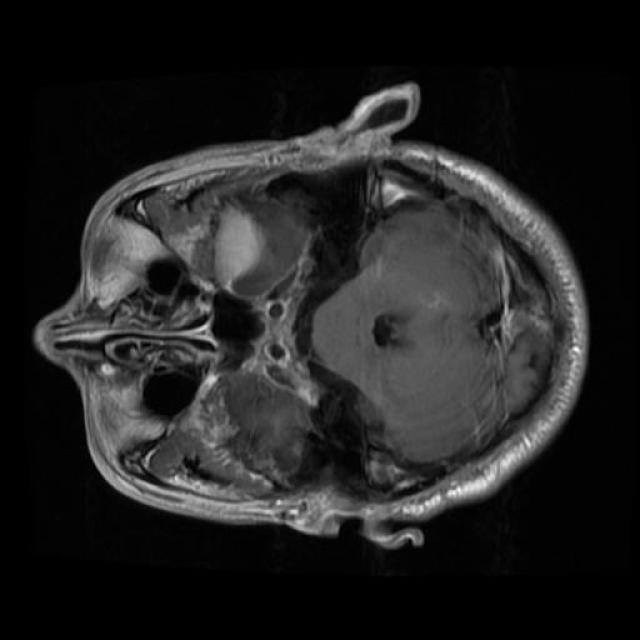Meningioma: (215, 205, 271, 291)
